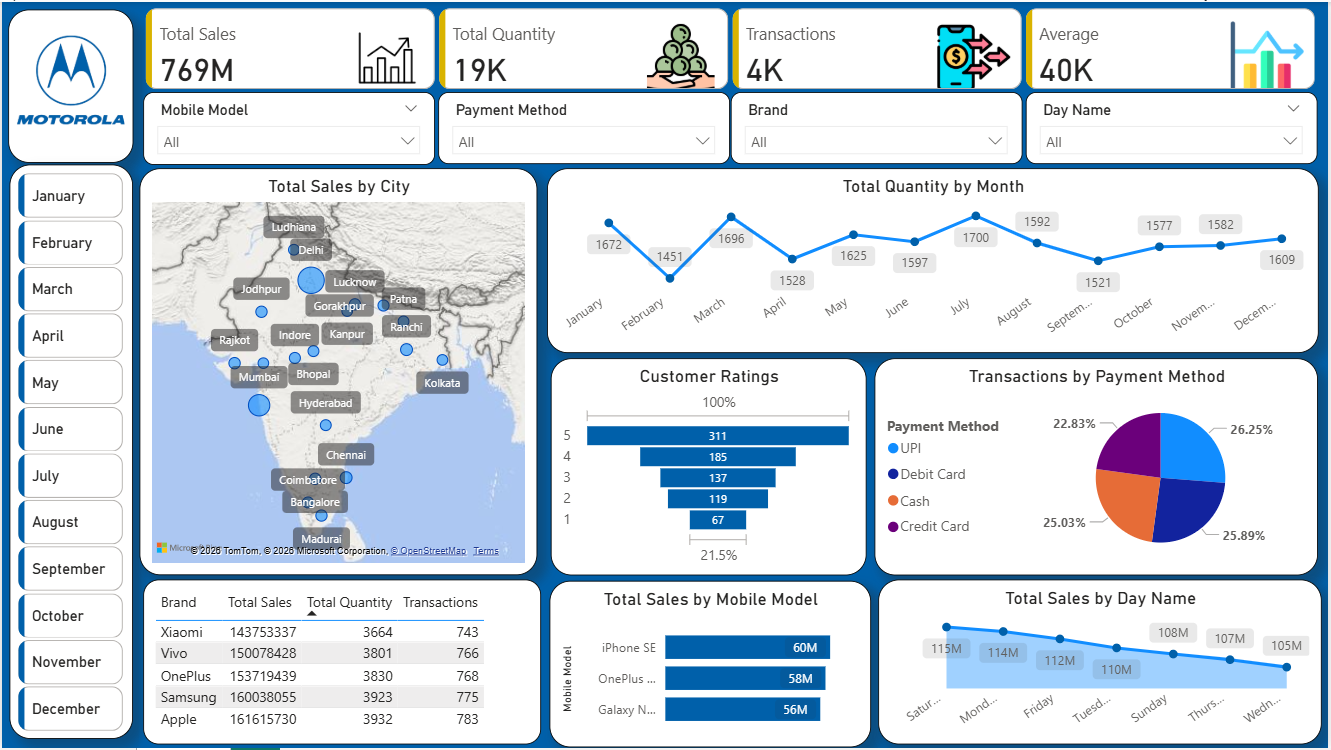

This screenshot's page, from the dashboard's own definition file:
{"tool":"powerbi","page":{"name":"Page 1","canvas":[1280,720],"ordinal":0},"visuals":[{"type":"shape","box":[5.5,6.9,120.8,148.2],"z":0},{"type":"image","box":[9.6,16.5,113.9,116.6],"z":1000},{"type":"shape","box":[6.9,156.4,119.4,554.4],"z":2000},{"type":"advancedSlicerVisual","fields":{"Values":["Sales_Data.Date.Variation.Date Hierarchy.Month"]},"box":[11,160.5,111.1,548.9],"z":3000},{"type":"cardVisual","fields":{"Data":["Sales_Data.Total Sales","Sales_Data.Total Quantity","Sales_Data.Transactions","Sales_Data.Average"]},"box":[134,5.6,1140.1,83.7],"z":4000},{"type":"map","fields":{"Category":["Sales_Data.City"],"Size":["Sales_Data.Total Sales"]},"box":[132.9,160.8,384.1,393.1],"z":5000},{"type":"lineChart","fields":{"Y":["Sales_Data.Total Quantity"],"Category":["Sales_Data.Date.Variation.Date Hierarchy.Month","Sales_Data.Date.Variation.Date Hierarchy.Day"]},"box":[525.9,160.8,744.8,178.7],"z":6000},{"type":"clusteredBarChart","fields":{"Category":["Sales_Data.Mobile Model"],"Y":["Sales_Data.Total Sales"]},"box":[528.3,558.5,310.1,160.5],"z":7000},{"type":"pieChart","fields":{"Category":["Sales_Data.Payment Method"],"Y":["Sales_Data.Transactions"]},"box":[842.5,344.4,428.1,209.9],"z":8000},{"type":"funnel","title":"Customer Ratings","fields":{"Category":["Sales_Data.Customer Ratings"],"Y":["CountNonNull(Sales_Data.Customer Ratings)"]},"box":[529.7,344.4,304.6,209.9],"z":9000},{"type":"areaChart","fields":{"Category":["Sales_Data.Day Name"],"Y":["Sales_Data.Total Sales"]},"box":[845.3,557.1,428.1,159.2],"z":10000},{"type":"tableEx","fields":{"Values":["Sales_Data.Brand","Sales_Data.Total Sales","Sales_Data.Total Quantity","Sales_Data.Transactions"]},"box":[135.8,557.1,384.2,159.2],"z":11000},{"type":"slicer","fields":{"Values":["Sales_Data.Mobile Model"]},"box":[136.2,87.1,281.4,70.3],"z":12000},{"type":"slicer","fields":{"Values":["Sales_Data.Payment Method"]},"box":[421,87.1,281.4,69.2],"z":13000},{"type":"slicer","fields":{"Values":["Sales_Data.Brand"]},"box":[703.5,87.1,281.4,69.2],"z":14000},{"type":"slicer","fields":{"Values":["Sales_Data.Day Name"]},"box":[988.2,87.1,281.4,69.2],"z":15000}]}

Visuals, with their boxes in screenshot pixels (x1, y1, x2, y2), scaled from the page's 1280x720 canvas onto the 1331x750 screenshot:
shape: (x1=6, y1=7, x2=131, y2=162)
image: (x1=10, y1=17, x2=128, y2=139)
shape: (x1=7, y1=163, x2=131, y2=740)
advancedSlicerVisual - Sales_Data.Date.Variation.Date Hierarchy.Month: (x1=11, y1=167, x2=127, y2=739)
cardVisual - Sales_Data.Total Sales x Sales_Data.Total Quantity: (x1=139, y1=6, x2=1325, y2=93)
map - Sales_Data.City x Sales_Data.Total Sales: (x1=138, y1=168, x2=538, y2=577)
lineChart - Sales_Data.Total Quantity x Sales_Data.Date.Variation.Date Hierarchy.Month: (x1=547, y1=168, x2=1321, y2=354)
clusteredBarChart - Sales_Data.Mobile Model x Sales_Data.Total Sales: (x1=549, y1=582, x2=872, y2=749)
pieChart - Sales_Data.Payment Method x Sales_Data.Transactions: (x1=876, y1=359, x2=1321, y2=577)
"Customer Ratings" funnel: (x1=551, y1=359, x2=868, y2=577)
areaChart - Sales_Data.Day Name x Sales_Data.Total Sales: (x1=879, y1=580, x2=1324, y2=746)
tableEx - Sales_Data.Brand x Sales_Data.Total Sales: (x1=141, y1=580, x2=541, y2=746)
slicer - Sales_Data.Mobile Model: (x1=142, y1=91, x2=434, y2=164)
slicer - Sales_Data.Payment Method: (x1=438, y1=91, x2=730, y2=163)
slicer - Sales_Data.Brand: (x1=732, y1=91, x2=1024, y2=163)
slicer - Sales_Data.Day Name: (x1=1028, y1=91, x2=1320, y2=163)
